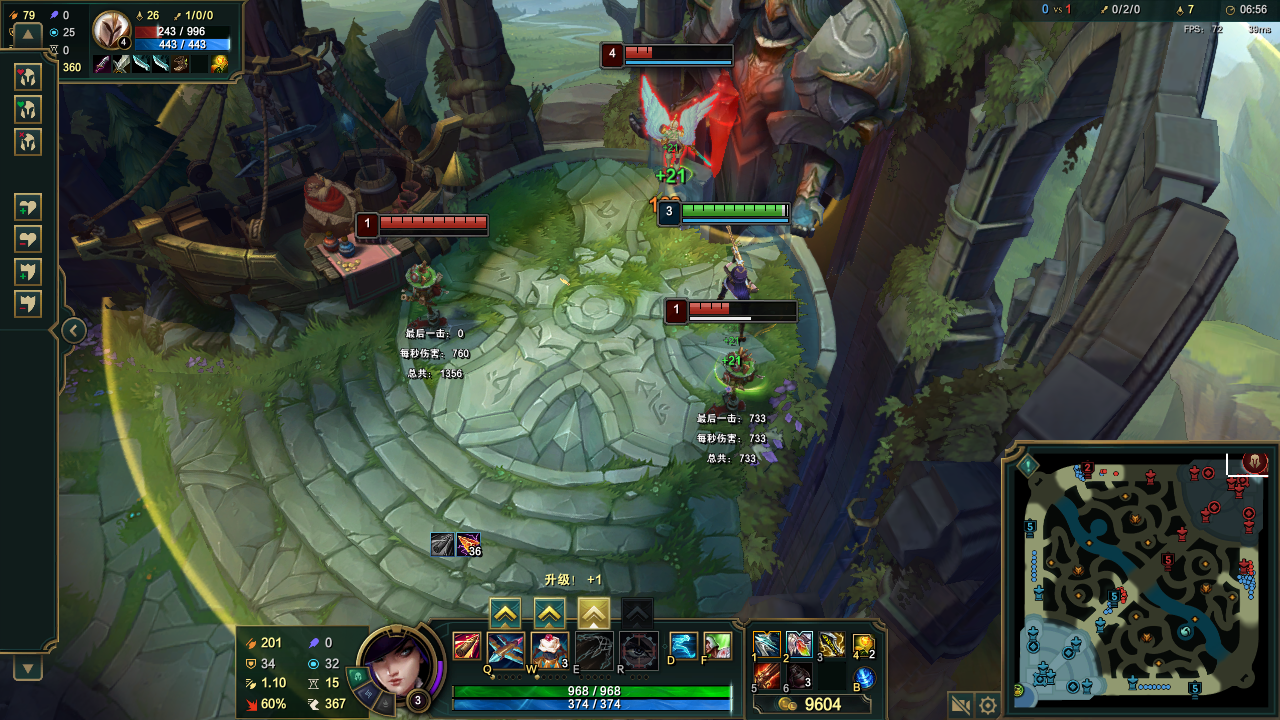DFYX: (627, 39, 741, 61), (686, 296, 798, 314), (377, 211, 500, 227)
